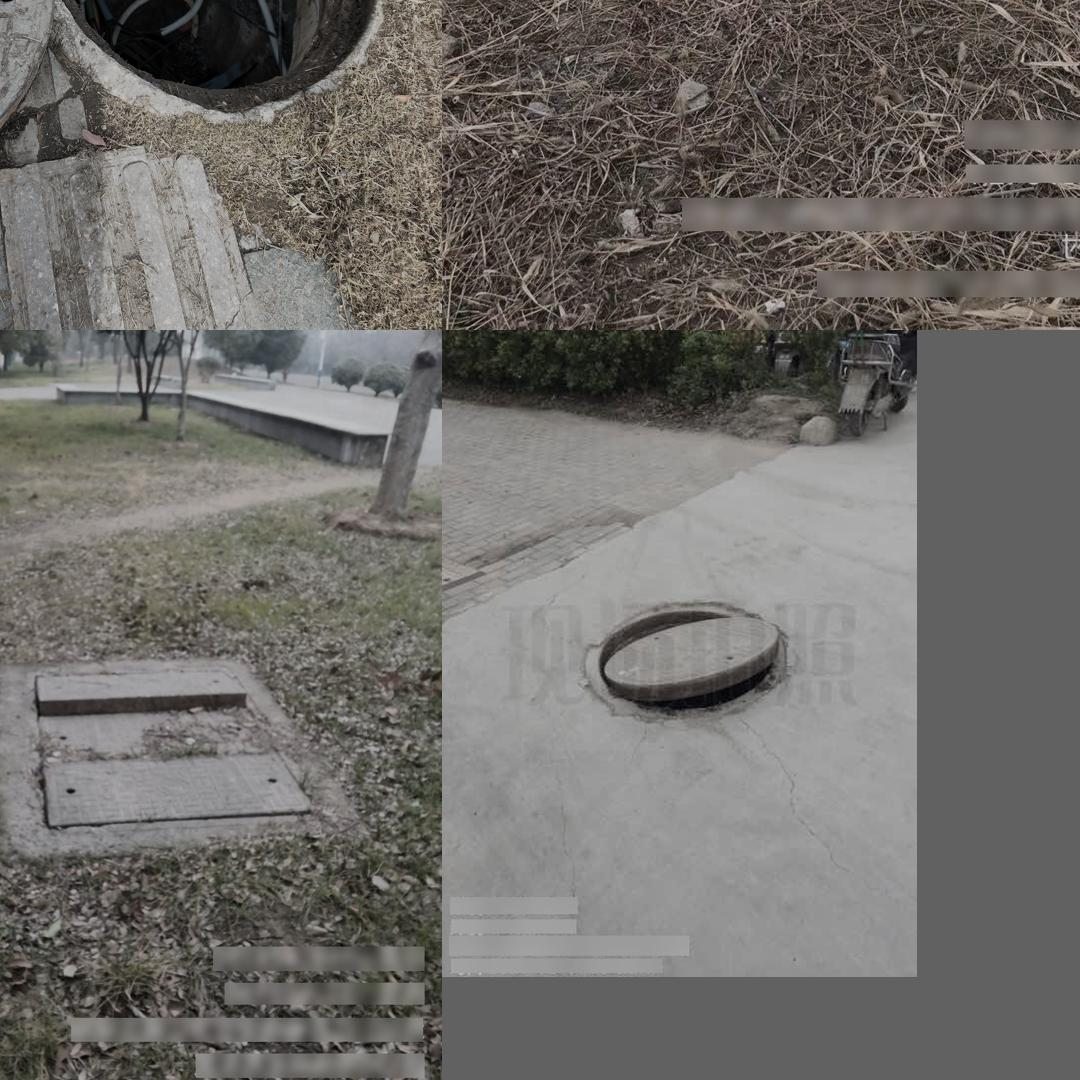uncovered: (0, 0, 389, 208), (24, 663, 317, 827), (584, 602, 791, 721)
